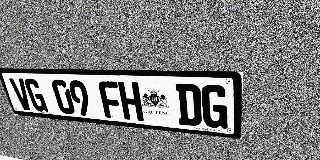0: (50, 79, 76, 115)
9: (67, 80, 93, 116)
D: (175, 84, 202, 127)
F: (97, 81, 124, 119)
G: (201, 84, 228, 129), (23, 78, 49, 112)
H: (118, 82, 144, 121)
V: (9, 78, 34, 111)
